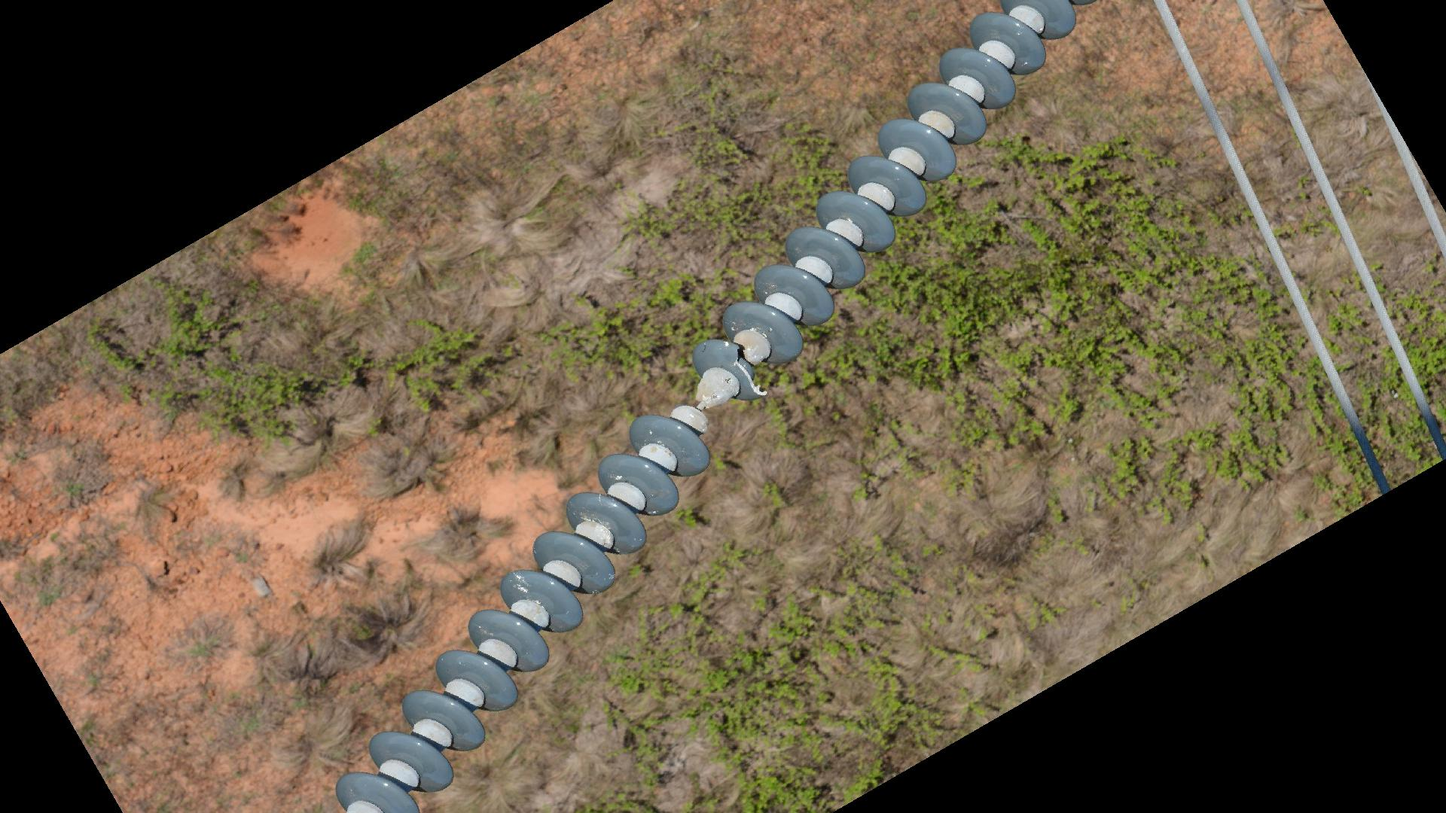insulator: (688, 1, 1087, 407), (331, 406, 715, 813)
insulator_breakage: (732, 342, 771, 400)
